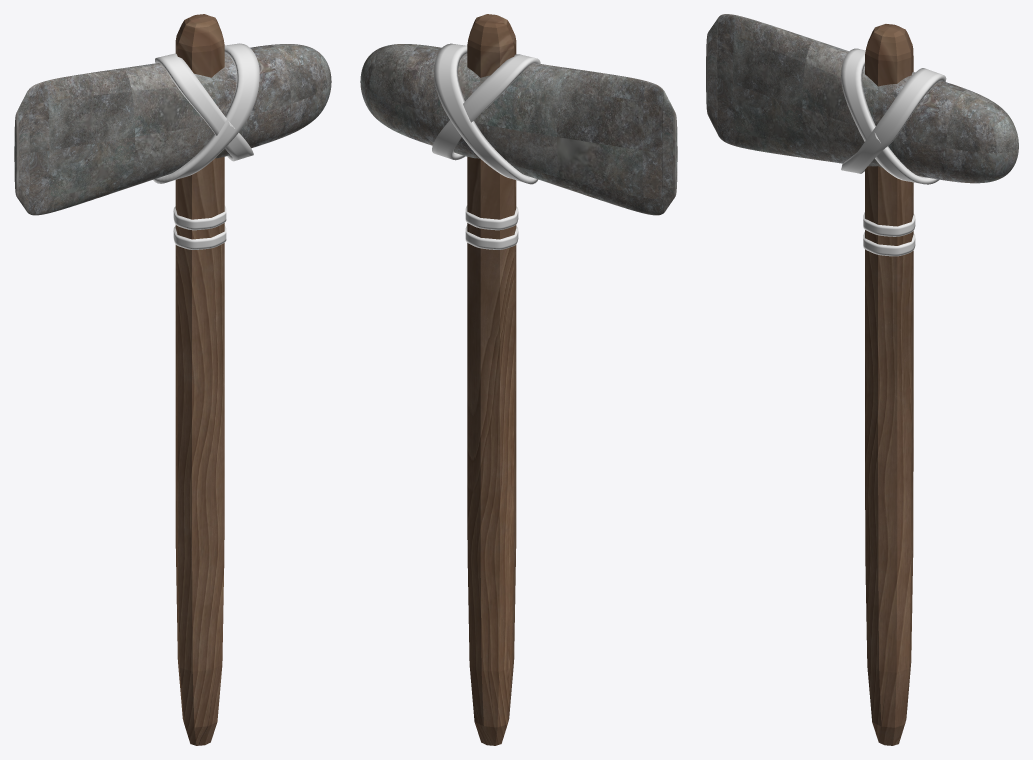
The model's file is PrehistoricAxe.fbx.
The picture shows the model from 3 angles, left to right: view 1: azimuth 30°, elevation 25°; view 2: azimuth 150°, elevation 25°; view 3: azimuth 330°, elevation 25°; orthographic projection.
Parts seen in each view (by area): view 1: Cube.003, Cube.002, Cylinder.004, Cylinder.003, Cylinder_dmg.001; view 2: Cube.003, Cube.002, Cylinder.004, Cylinder.003, Cylinder_dmg.001; view 3: Cube.003, Cube.002, Cylinder.004, Cylinder.003, Cylinder_dmg.001.
Part boxes in pixels (x1=…): Cube.003: x1=14, y1=44, x2=331, y2=215; Cube.002: x1=175, y1=14, x2=224, y2=745; Cylinder.004: x1=153, y1=43, x2=259, y2=183; Cylinder.003: x1=155, y1=53, x2=253, y2=161; Cylinder_dmg.001: x1=173, y1=205, x2=226, y2=249; Cube.003: x1=360, y1=44, x2=677, y2=215; Cube.002: x1=467, y1=14, x2=516, y2=745; Cylinder.004: x1=434, y1=43, x2=538, y2=184; Cylinder.003: x1=432, y1=54, x2=540, y2=160; Cylinder_dmg.001: x1=465, y1=205, x2=518, y2=249; Cube.003: x1=706, y1=14, x2=1018, y2=183; Cube.002: x1=865, y1=24, x2=913, y2=745; Cylinder.004: x1=841, y1=68, x2=946, y2=173; Cylinder.003: x1=841, y1=48, x2=939, y2=184; Cylinder_dmg.001: x1=863, y1=212, x2=915, y2=256.
Bounding box in the file's own units: 209 × 461 × 51.13.
Materials: 3 (2 with a texture image).
